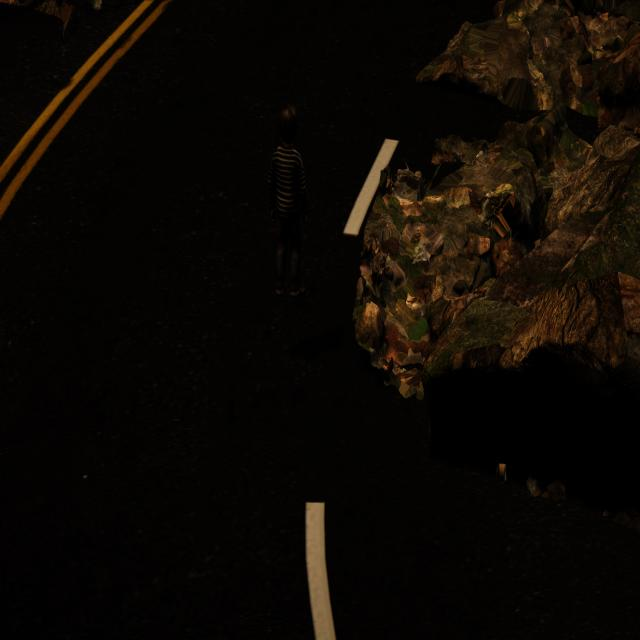Human: (266, 99, 314, 307)
